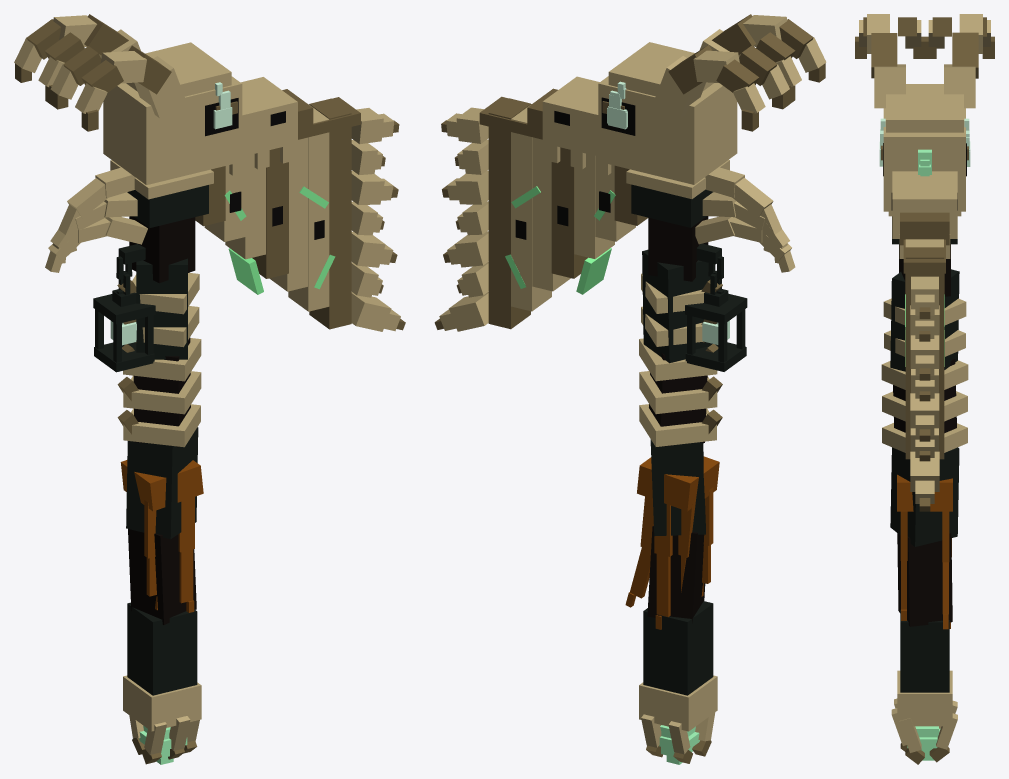
Rendered from gravebite.obj.
3 renders of one model, left to right at view 1: azimuth 30°, elevation 25°; view 2: azimuth 150°, elevation 25°; view 3: azimuth 270°, elevation 25°, orthographic. The views are drawn at different scales.
Parts seen in each view (by area): view 1: skull_45, haft_1, jaw_blade_94, haft_3, jaw_blade_92, haft_2, skull_46, jaw_blade_91, jaw_blade_89, haft_5, pommel_hand_27, haft_6 (+40 smaller); view 2: skull_45, haft_1, jaw_blade_94, jaw_blade_92, skull_46, haft_3, haft_5, haft_2, jaw_blade_91, jaw_blade_89, pommel_hand_27, skull_48 (+40 smaller); view 3: skull_45, haft_2, haft_1, skull_48, haft_3, skull_46, jaw_blade_94, pommel_hand_27, haft_5, skull_47, horn_L_72, horn_L_72_back (+39 smaller).
Boxes of the visible parts, left/top/right/bottom form: skull_45: left=103, top=76, right=242, bottom=184; haft_1: left=127, top=602, right=197, bottom=695; jaw_blade_94: left=309, top=98, right=351, bottom=329; haft_3: left=126, top=427, right=198, bottom=539; jaw_blade_92: left=288, top=105, right=329, bottom=311; haft_2: left=128, top=529, right=196, bottom=624; skull_46: left=240, top=77, right=297, bottom=156; jaw_blade_91: left=269, top=137, right=307, bottom=291; jaw_blade_89: left=252, top=147, right=288, bottom=278; haft_5: left=136, top=258, right=187, bottom=359; pommel_hand_27: left=123, top=675, right=201, bottom=731; haft_6: left=129, top=216, right=195, bottom=283; skull_45: left=598, top=76, right=737, bottom=184; haft_1: left=643, top=601, right=713, bottom=695; jaw_blade_94: left=488, top=98, right=530, bottom=329; jaw_blade_92: left=511, top=105, right=551, bottom=311; skull_46: left=542, top=76, right=599, bottom=156; haft_3: left=650, top=439, right=705, bottom=536; haft_5: left=642, top=249, right=712, bottom=363; haft_2: left=647, top=526, right=705, bottom=623; jaw_blade_91: left=532, top=137, right=570, bottom=291; jaw_blade_89: left=551, top=147, right=587, bottom=278; pommel_hand_27: left=639, top=675, right=717, bottom=731; skull_48: left=608, top=42, right=713, bottom=96; skull_45: left=883, top=108, right=965, bottom=211; haft_2: left=897, top=533, right=952, bottom=626; haft_1: left=900, top=610, right=949, bottom=692; skull_48: left=886, top=84, right=963, bottom=132; haft_3: left=890, top=447, right=959, bottom=546; skull_46: left=892, top=171, right=957, bottom=238; jaw_blade_94: left=905, top=247, right=944, bottom=459; pommel_hand_27: left=897, top=670, right=952, bottom=726; haft_5: left=890, top=269, right=959, bottom=371; skull_47: left=900, top=212, right=949, bottom=245; horn_L_72: left=874, top=64, right=905, bottom=108; horn_L_72_back: left=944, top=64, right=975, bottom=108.
Bounding box in the file's own units: 2.11 × 4.2 × 0.7521.
